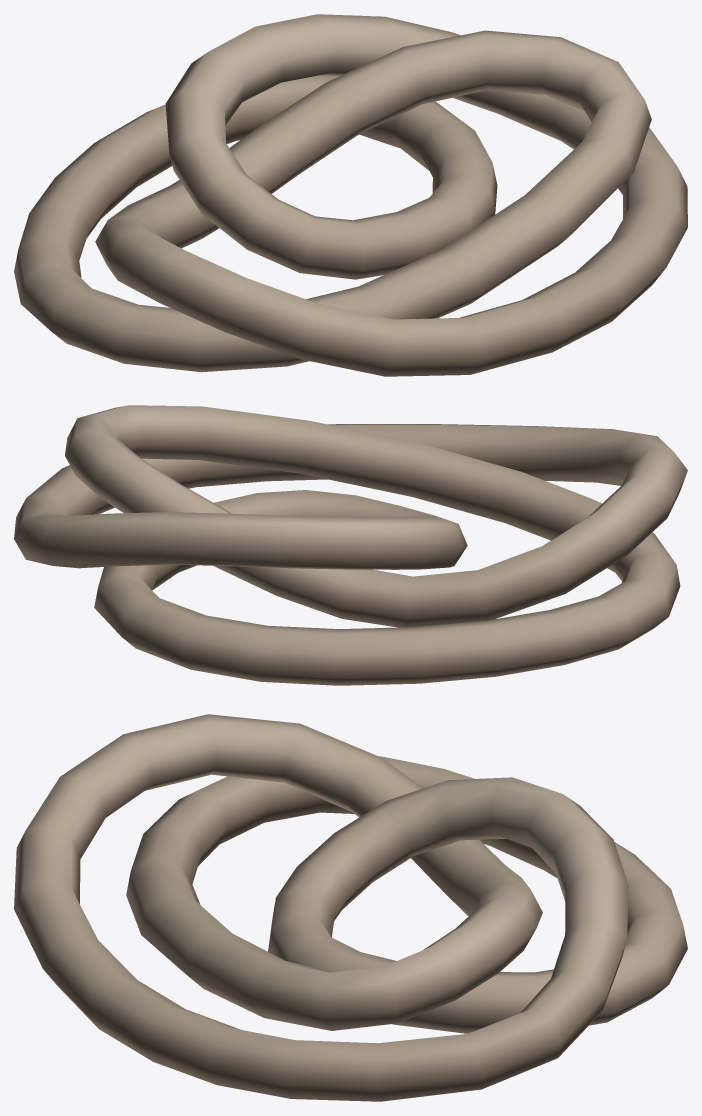
The model's file is rope_bundle_b.glb.
3 views of the same model, one above another, from view 1: azimuth 30°, elevation 25°; view 2: azimuth 150°, elevation 25°; view 3: azimuth 270°, elevation 25° (orthographic). The views are drawn at different scales.
Parts seen in each view (by area): view 1: rope_bundle_B; view 2: rope_bundle_B; view 3: rope_bundle_B.
Boxes of the visible parts, <box> form: rope_bundle_B: <box>14,14,687,376</box>; rope_bundle_B: <box>14,405,687,685</box>; rope_bundle_B: <box>14,714,687,1101</box>.
Size of the model in its own units: 1.06 by 0.2329 by 0.954.
1 material, 1 textured.
